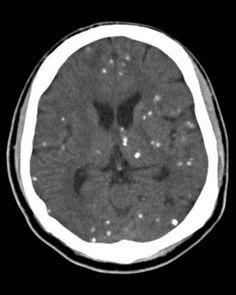Normal_Brain: (2, 4, 236, 295)
